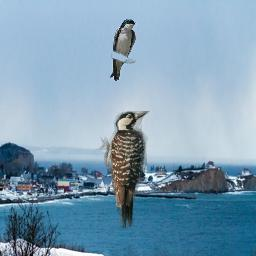Swallow: (110, 19, 137, 81)
Woodpecker: (96, 111, 150, 235)
